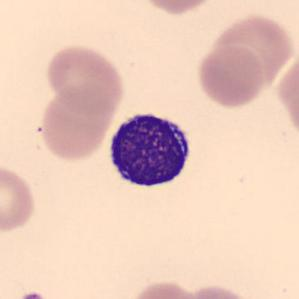Lymphocyte: (102, 104, 197, 197)
Platelets: (18, 290, 47, 299)
RBC: (203, 14, 292, 95), (36, 82, 117, 164), (42, 42, 127, 115), (195, 44, 267, 110), (0, 162, 39, 236), (275, 48, 298, 142), (123, 277, 203, 299), (177, 282, 258, 299), (134, 0, 220, 16)
